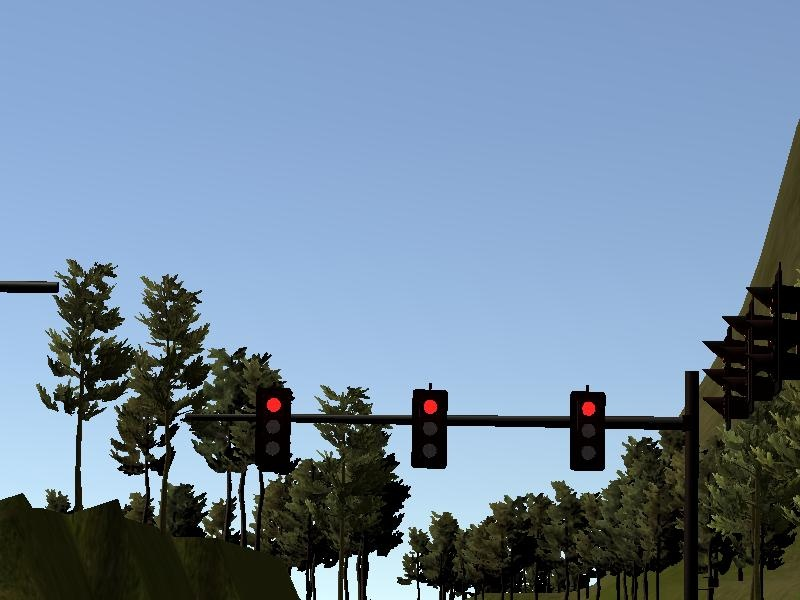traffic_light_red: (235, 385, 681, 473)
